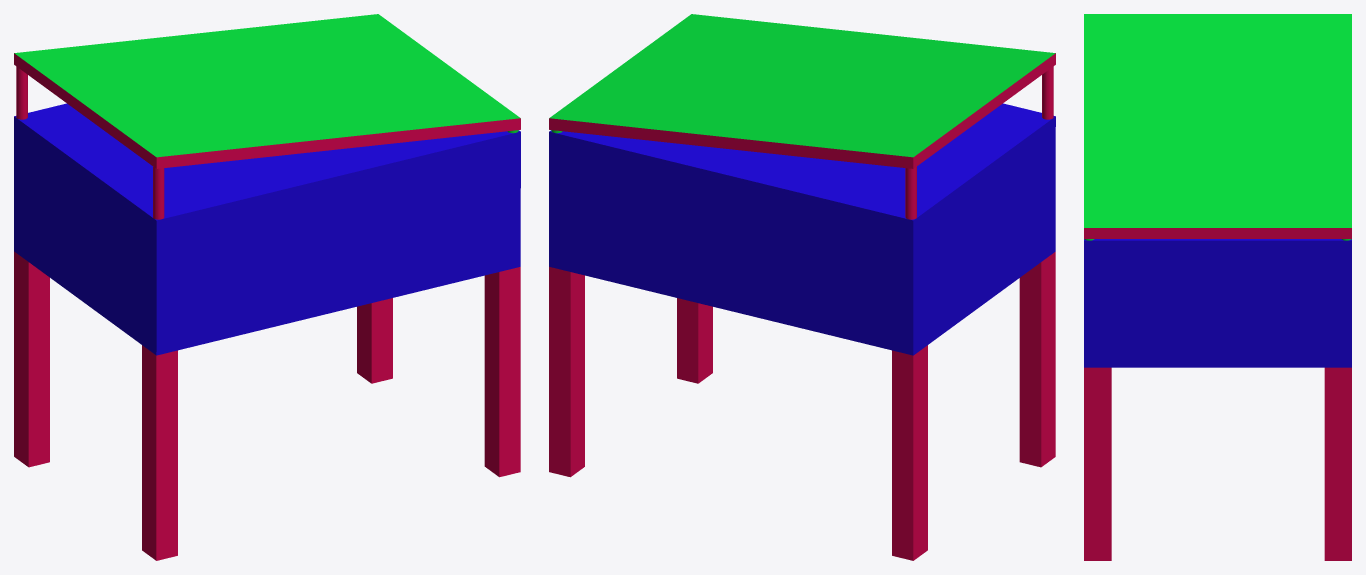
The model's file is Weatherstation.fbx.
3 views of the same model, side by side, from view 1: azimuth 30°, elevation 25°; view 2: azimuth 150°, elevation 25°; view 3: azimuth 270°, elevation 25° (orthographic). The views are drawn at different scales.
Parts seen in each view (by area): view 1: solar; view 2: solar; view 3: solar.
Part boxes in pixels (x1=…): solar: x1=14, y1=14, x2=520, y2=560; solar: x1=549, y1=14, x2=1055, y2=560; solar: x1=1084, y1=14, x2=1351, y2=560.
Size of the model in its own units: 622 by 658 by 421.
